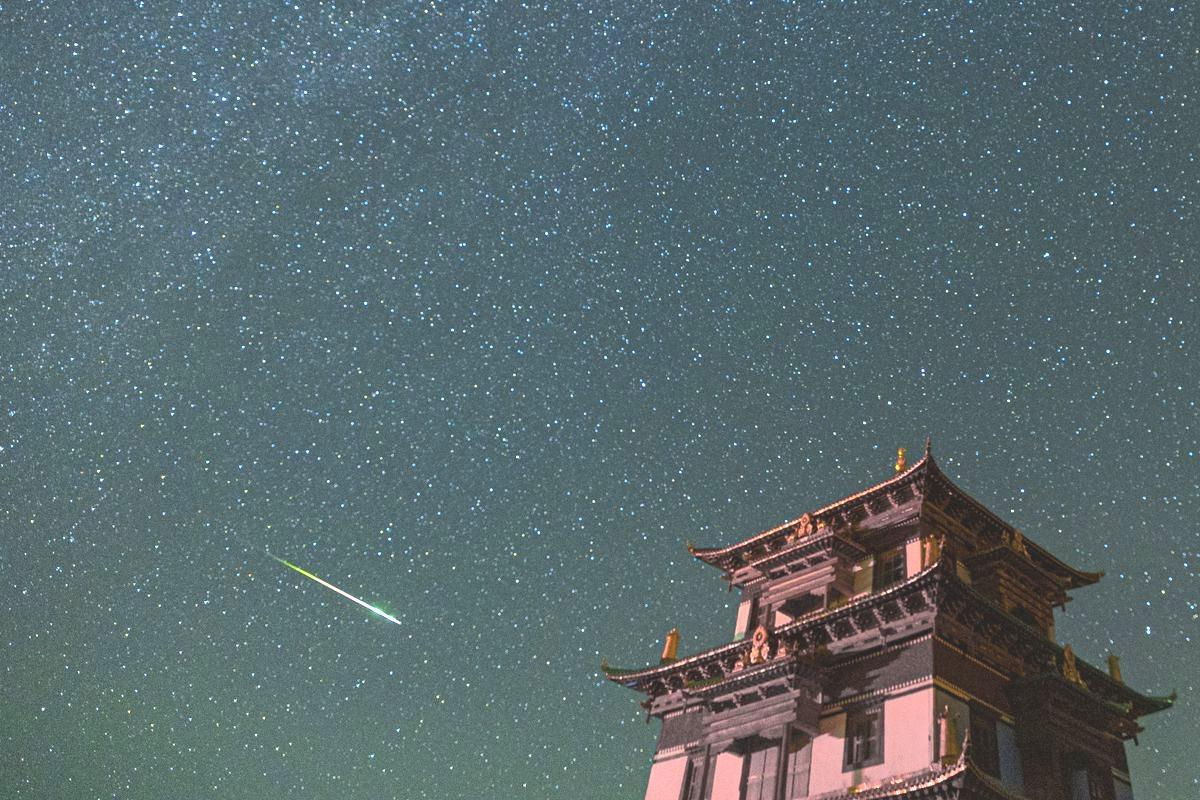meteorite: (265, 544, 412, 634)
